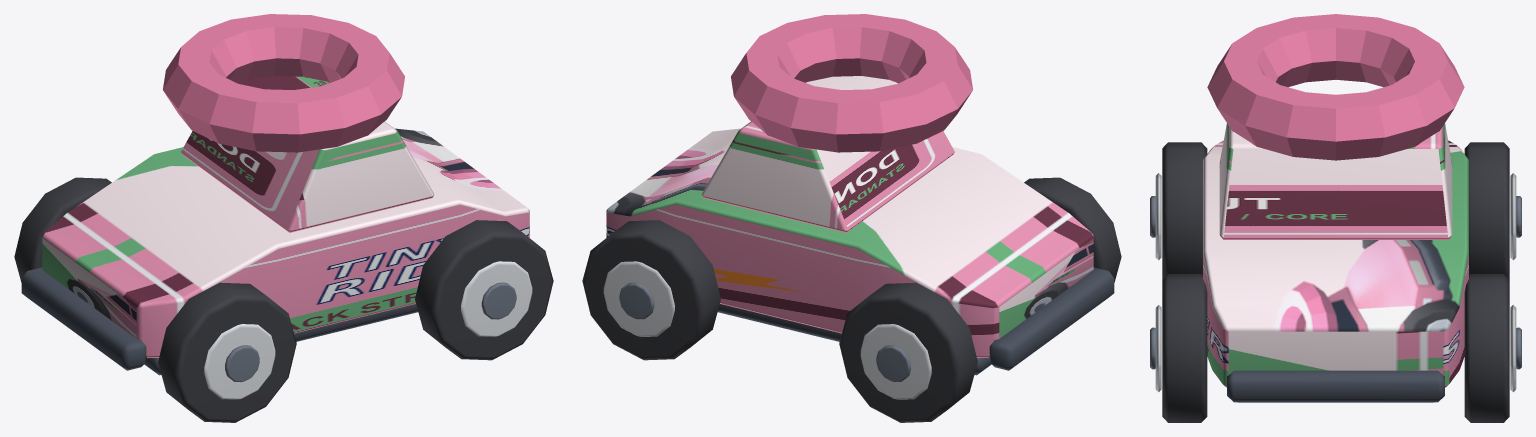
The picture shows the model from 3 angles, left to right: view 1: azimuth 30°, elevation 25°; view 2: azimuth 150°, elevation 25°; view 3: azimuth 270°, elevation 25°; orthographic projection. The views are drawn at different scales.
Parts seen in each view (by area): view 1: SS-05_connected_shell, real donut ring, SS-05_cabin, Tire, Tire.002, front bumper, Tire.001, Rim, Rim.002, underbody, Hub.002, Hub; view 2: SS-05_connected_shell, real donut ring, SS-05_cabin, Tire.001, Tire.003, front bumper, Tire, Rim.001, Rim.003, underbody, Hub.003, Hub.001; view 3: SS-05_connected_shell, real donut ring, SS-05_cabin, rear bumper, Tire.002, Tire.003, Tire, Tire.001, Rim, Rim.001, Rim.002, Rim.003.
Boxes of the visible parts, x1,y1,x2,y2 form: SS-05_connected_shell: (42,128,529,358); real donut ring: (163,14,404,152); SS-05_cabin: (181,76,434,232); Tire: (158,282,296,422); Tire.002: (415,220,553,360); front bumper: (21,267,146,370); Tire.001: (14,177,111,282); Rim: (204,324,275,399); Rim.002: (461,261,532,336); underbody: (144,304,418,375); Hub.002: (481,282,516,319); Hub: (225,345,259,382); SS-05_connected_shell: (606,128,1093,358); real donut ring: (731,14,972,152); SS-05_cabin: (701,76,954,232); Tire.001: (839,282,977,422); Tire.003: (582,220,720,360); front bumper: (989,267,1114,370); Tire: (1024,177,1121,282); Rim.001: (860,324,931,399); Rim.003: (603,261,674,336); underbody: (717,304,991,375); Hub.003: (619,282,654,319); Hub.001: (876,345,910,382); SS-05_connected_shell: (1203,140,1468,387); real donut ring: (1207,14,1464,160); SS-05_cabin: (1219,123,1452,239); rear bumper: (1227,370,1444,402); Tire.002: (1162,274,1207,422); Tire.003: (1464,274,1509,422); Tire: (1162,142,1207,279); Tire.001: (1464,142,1509,279); Rim: (1155,173,1161,260); Rim.001: (1510,173,1516,260); Rim.002: (1155,305,1161,392); Rim.003: (1510,305,1516,392).
Bounding box in the file's own units: 295 × 183 × 214.
